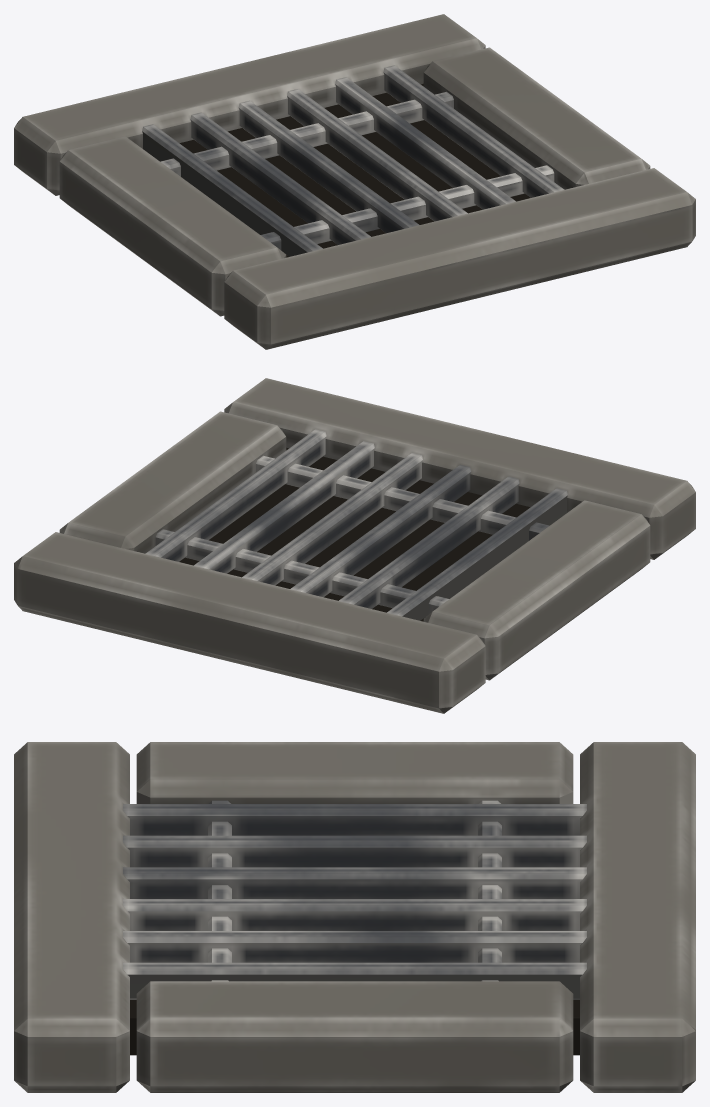
File: gallows_drain.glb
The picture shows the model from 3 angles, top to bottom: view 1: azimuth 30°, elevation 25°; view 2: azimuth 150°, elevation 25°; view 3: azimuth 270°, elevation 25°; orthographic projection. The views are drawn at different scales.
Visible parts, largest first — view 1: gallows_drain; view 2: gallows_drain; view 3: gallows_drain.
Boxes of the visible parts, x1,y1,x2,y2 form: gallows_drain: (14, 14, 695, 349); gallows_drain: (14, 378, 695, 713); gallows_drain: (14, 742, 695, 1092).
Size of the model in its own units: 1 by 0.12 by 1.
Materials: 1 (1 with a texture image).
